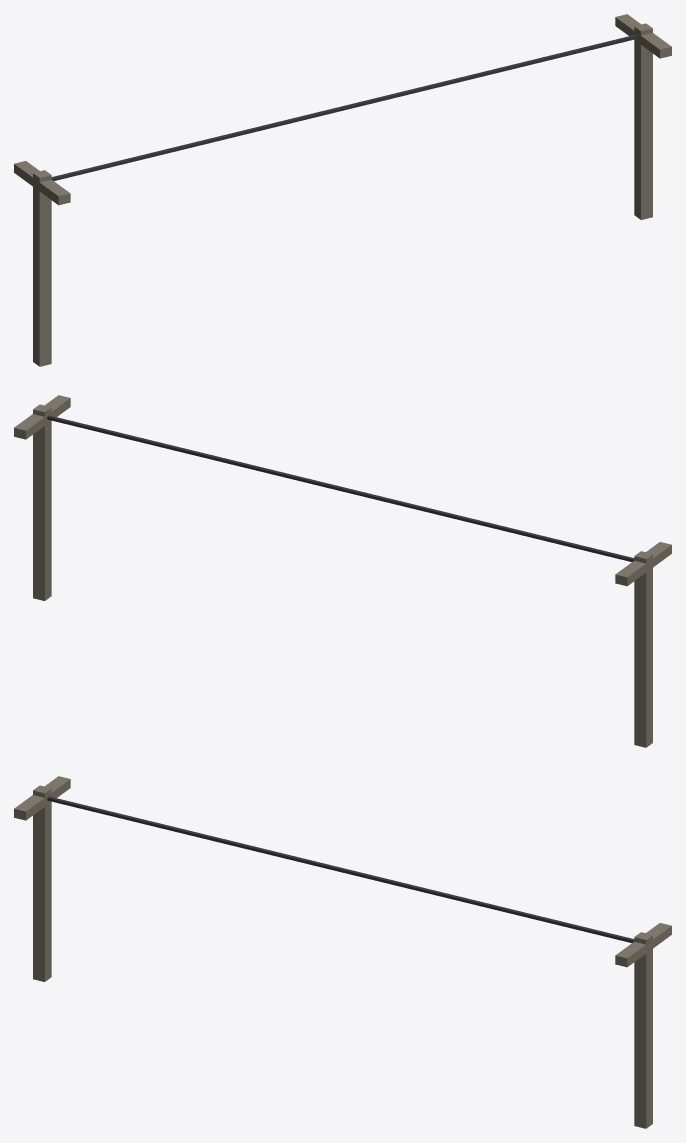
The model's file is washline.glb.
The picture shows the model from 3 angles, top to bottom: view 1: azimuth 30°, elevation 25°; view 2: azimuth 150°, elevation 25°; view 3: azimuth 330°, elevation 25°; orthographic projection.
Visible parts, largest first — view 1: washline; view 2: washline; view 3: washline.
Boxes of the visible parts, x1,y1,x2,y2 form: washline: (14,14,671,366); washline: (14,395,671,747); washline: (14,776,671,1128).
Size of the model in its own units: 7.14 by 2.1 by 0.9.
